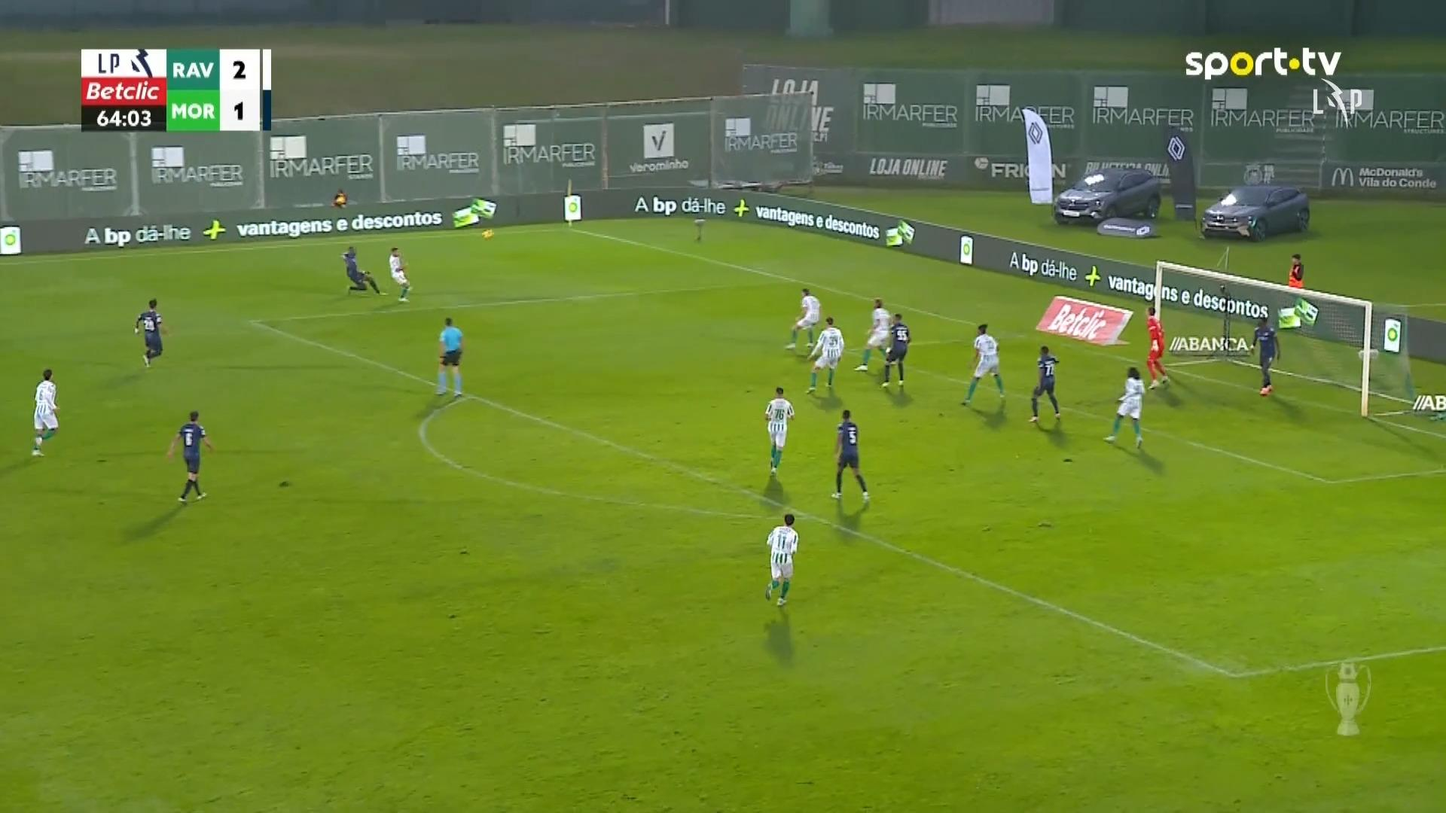ball: (481, 229, 493, 239)
goalkeeper: (1144, 305, 1169, 389)
player: (166, 410, 213, 503), (830, 408, 870, 504), (960, 322, 1005, 406), (1103, 366, 1145, 449), (764, 513, 799, 606), (804, 316, 844, 394), (853, 297, 891, 372), (764, 385, 794, 476), (1027, 344, 1061, 422), (133, 297, 169, 368), (31, 367, 59, 456), (1249, 315, 1280, 394), (784, 286, 820, 349), (880, 312, 910, 387), (340, 245, 383, 294), (388, 246, 411, 302)
referee: (434, 316, 464, 397)
